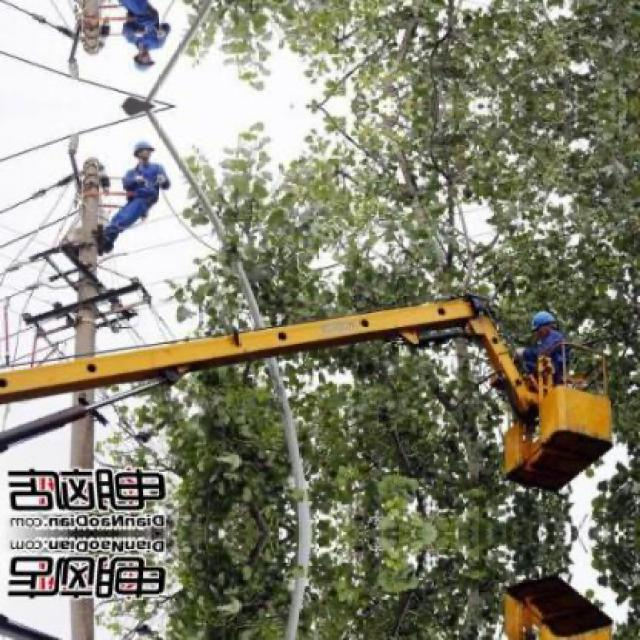helmet: (534, 308, 555, 338), (134, 138, 155, 164), (134, 51, 155, 77)
